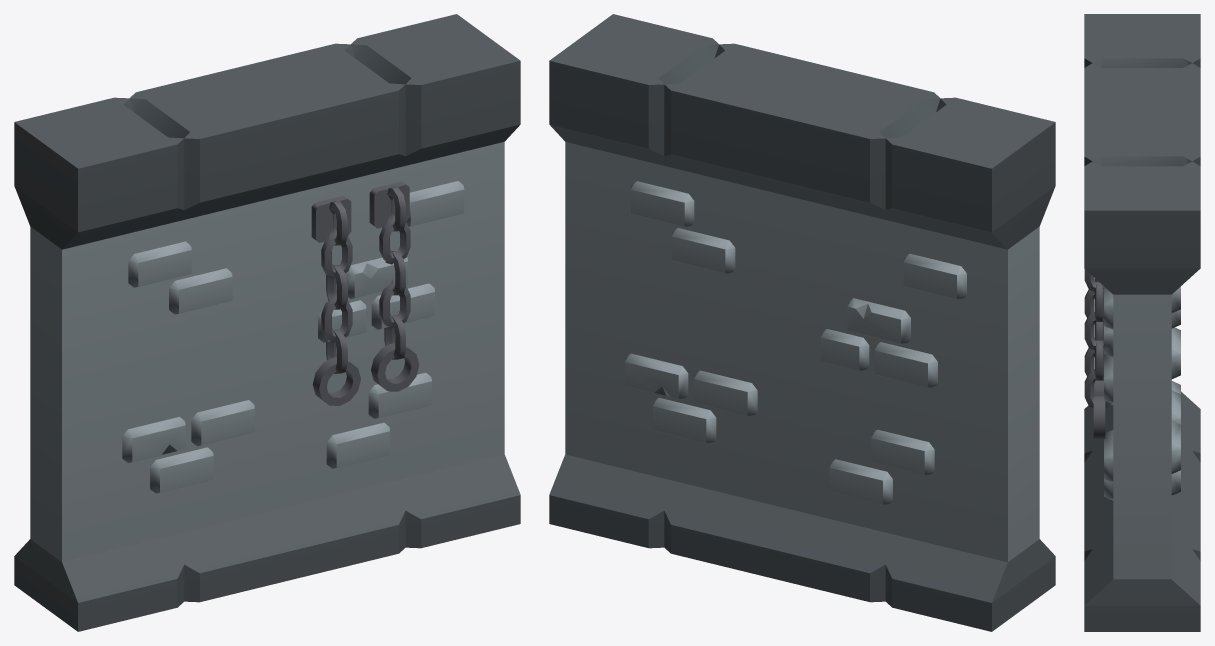
File: wall_prison_A.glb
The picture shows the model from 3 angles, left to right: view 1: azimuth 30°, elevation 25°; view 2: azimuth 150°, elevation 25°; view 3: azimuth 270°, elevation 25°; orthographic projection. The views are drawn at different scales.
Parts seen in each view (by area): view 1: Item; view 2: Item; view 3: Item.
Boxes of the visible parts, x1,y1,x2,y2 form: Item: (14,14,520,631); Item: (549,14,1055,631); Item: (1084,14,1200,631).
Size of the model in its own units: 4 by 4 by 1.
2 materials, 2 textured.
